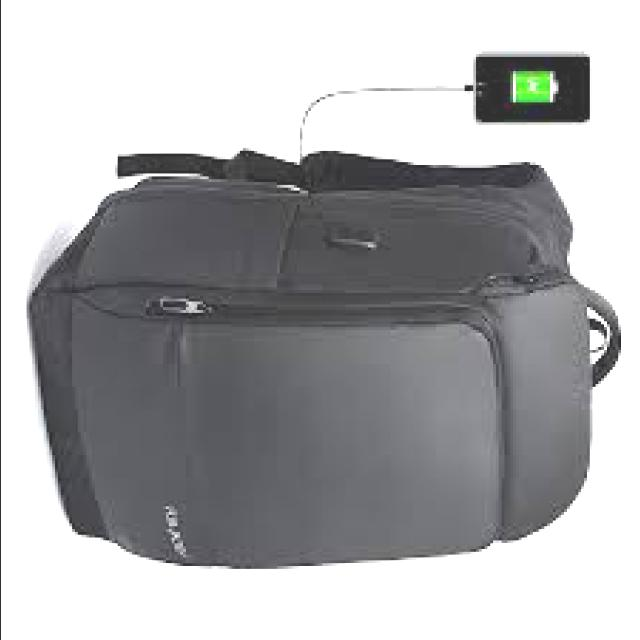backpack: (30, 146, 624, 570)
